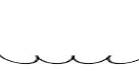inductor: (0, 51, 135, 67)
